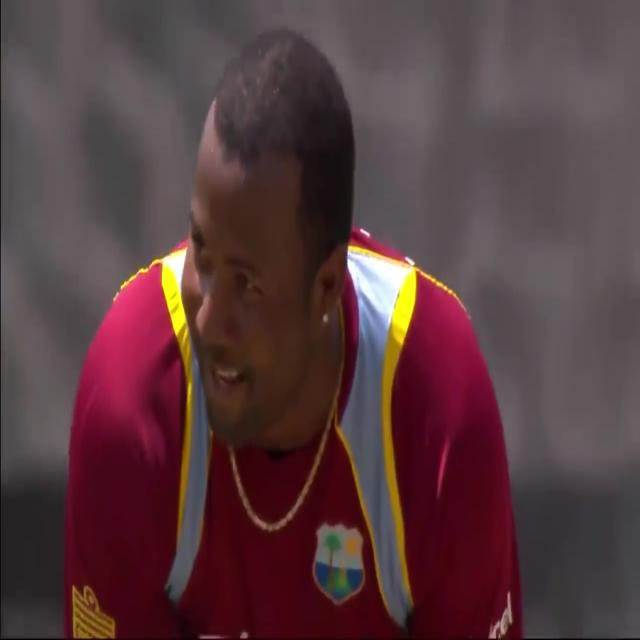Fielder: (49, 4, 552, 638)
